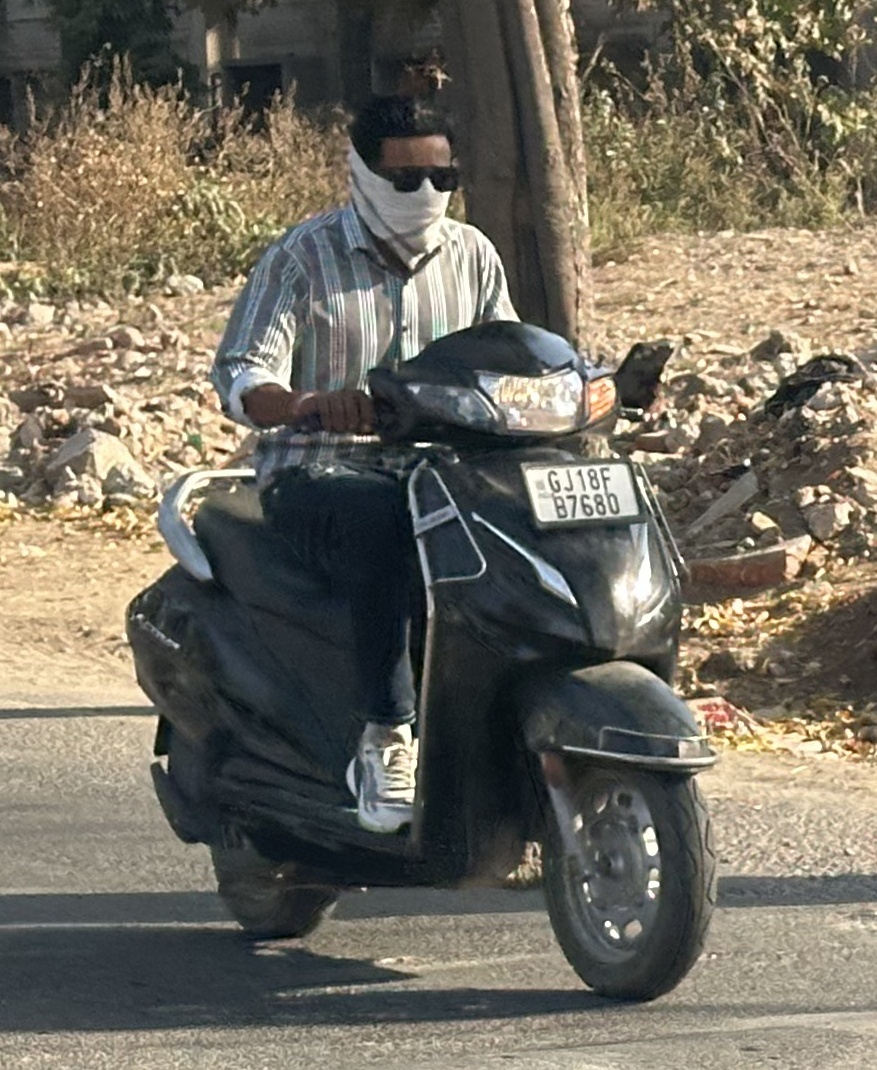Helmet: (321, 84, 482, 253)
NoHelmet: (108, 71, 739, 1013)
